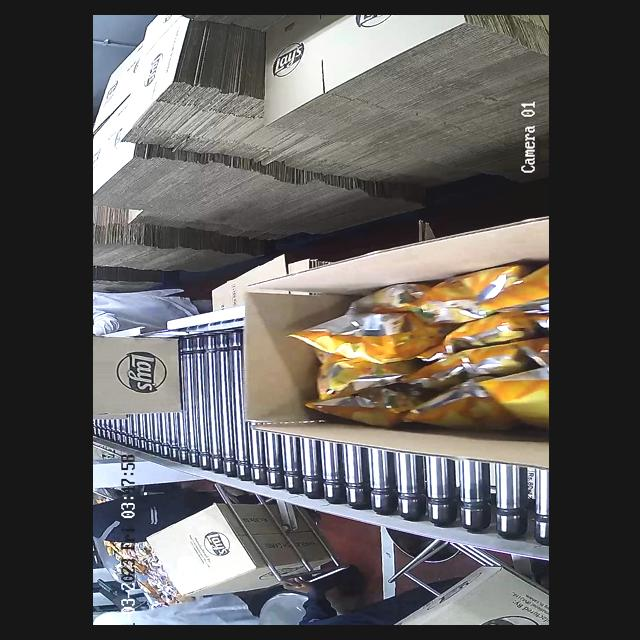cheese: (294, 269, 548, 421)
